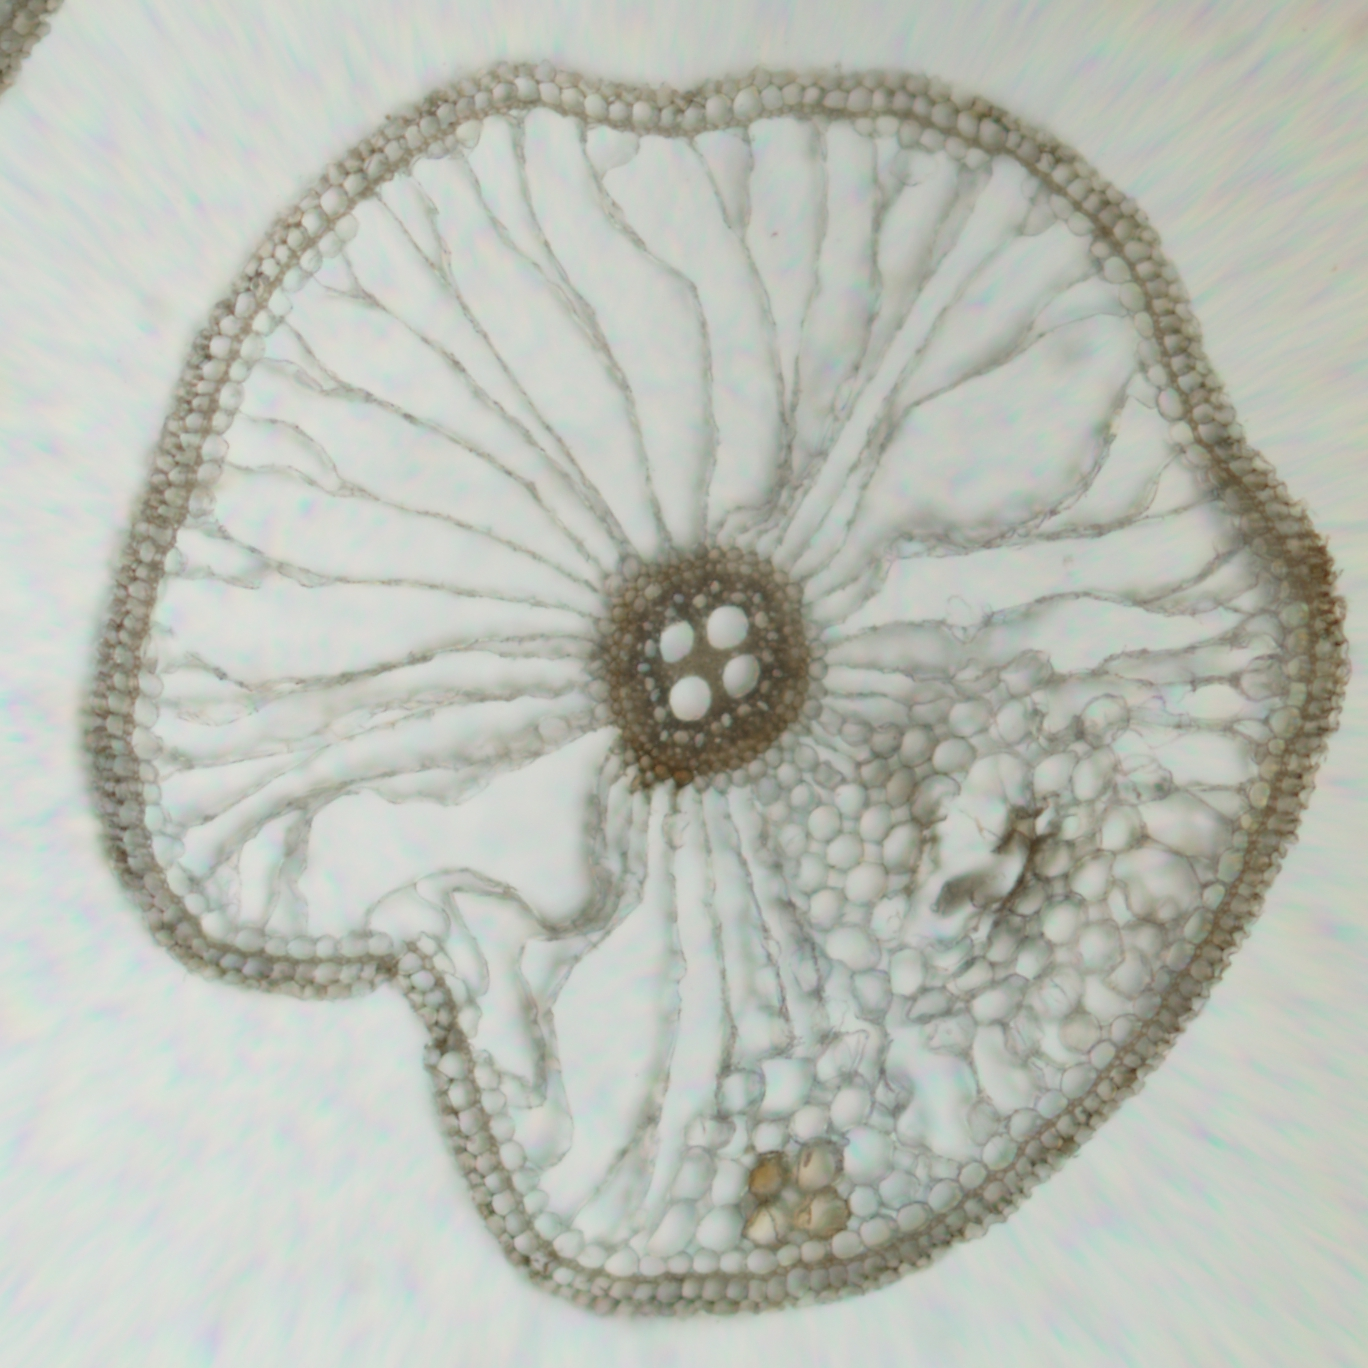lm: (669, 675, 712, 722), (707, 605, 749, 650), (722, 654, 762, 699), (658, 620, 695, 664)
